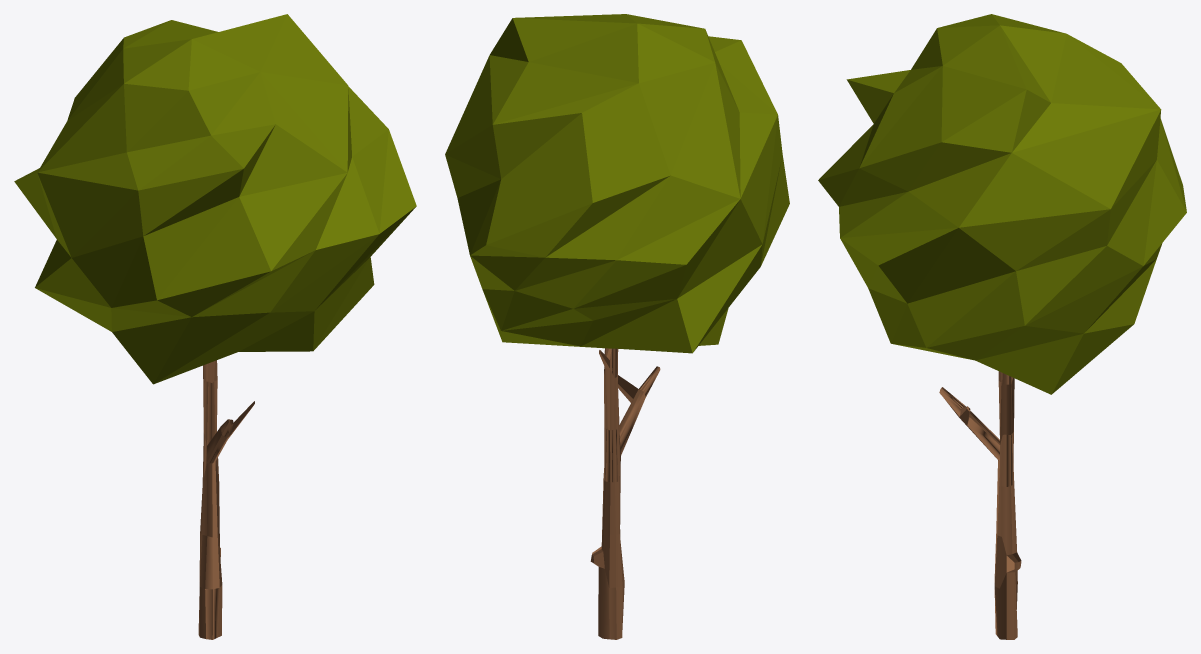
File: tree_earch.fbx
3 renders of one model, left to right at view 1: azimuth 30°, elevation 25°; view 2: azimuth 150°, elevation 25°; view 3: azimuth 270°, elevation 25°, orthographic. The views are drawn at different scales.
Parts seen in each view (by area): view 1: leafs, wood; view 2: leafs, wood; view 3: leafs, wood.
Boxes of the visible parts, x1=… form: leafs: x1=14, y1=14, x2=416, y2=384; wood: x1=198, y1=360, x2=254, y2=639; leafs: x1=445, y1=14, x2=789, y2=353; wood: x1=590, y1=348, x2=660, y2=639; leafs: x1=818, y1=14, x2=1186, y2=394; wood: x1=939, y1=371, x2=1021, y2=639.
Size of the model in its own units: 785 by 1489 by 830.
